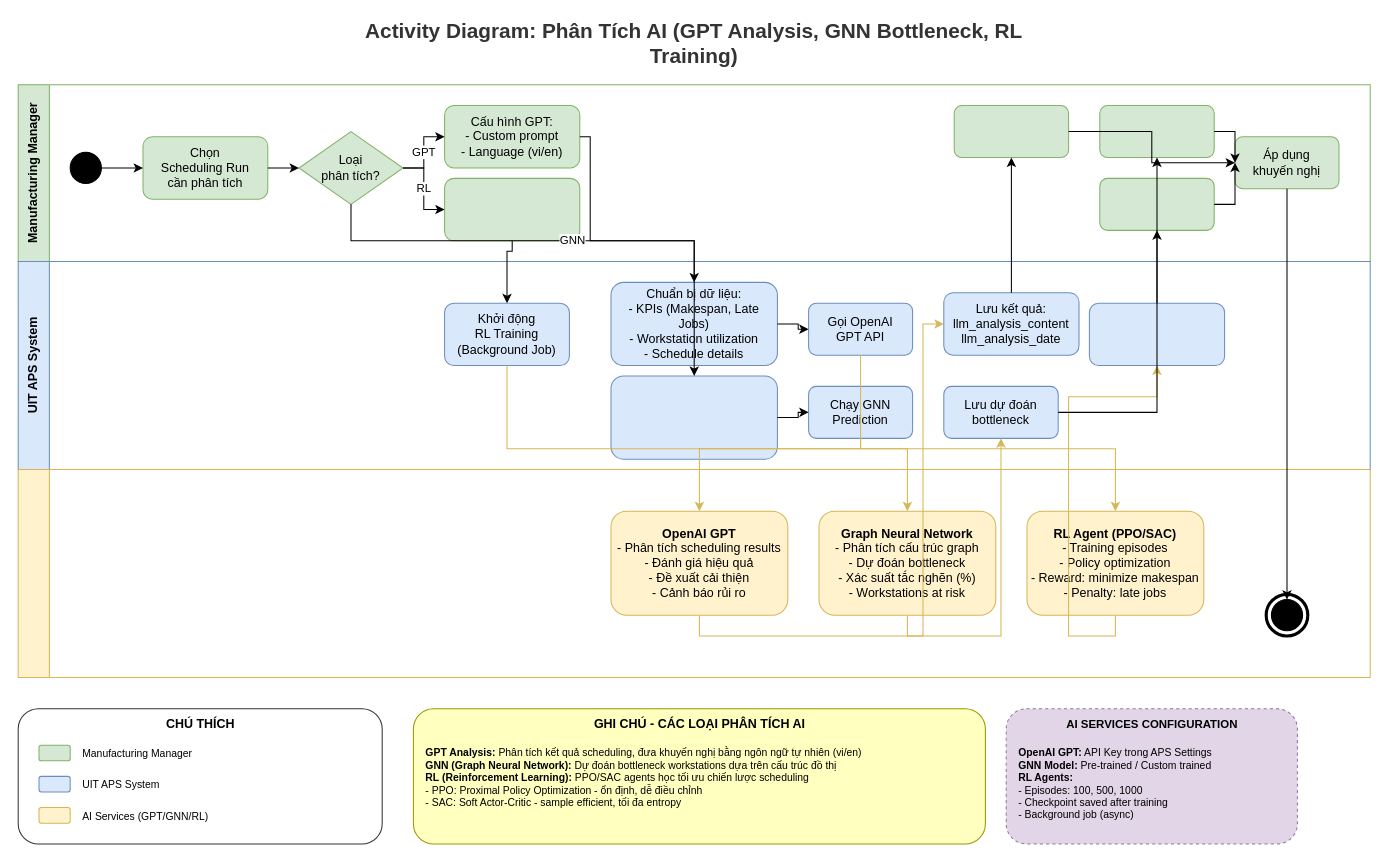
Some shapes in this 1388 by 862 pixel diagram are drawn without their labels. The shapes that lost their labels are listed below. From the top down, each one's box as (x1, y1, x2, y2) in pixels, then its label:
(953, 105, 1069, 158): Xem kết quả phân tích GPT
(1099, 105, 1214, 158): Xem dự đoán tắc nghẽn GNN
(444, 177, 580, 241): Cấu hình RL: - Agent (PPO/SAC) - Episodes (100-1000)
(1099, 177, 1214, 230): Xem kết quả training RL
(1088, 302, 1225, 366): Lưu APS RL Training Log + Model checkpoint
(610, 375, 777, 459): Xây dựng Graph: - Job nodes - Machine nodes - Edges (assignments)
(17, 469, 1370, 678): AI Services (GPT / GNN / RL)
